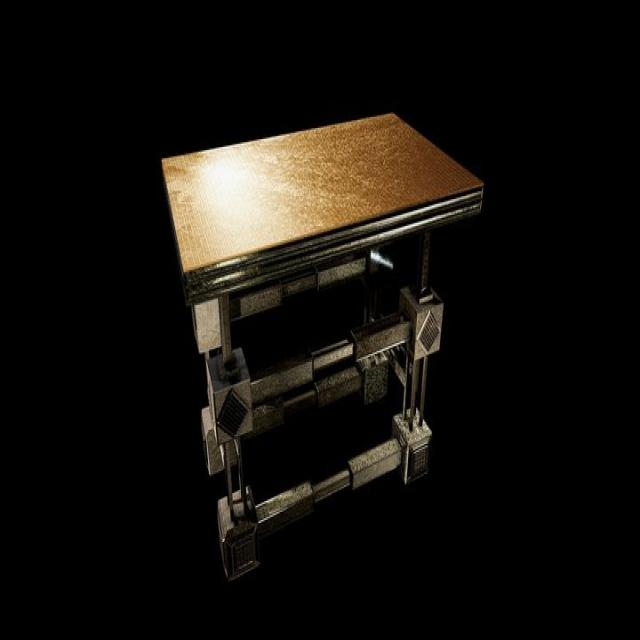table: (160, 113, 486, 589)
